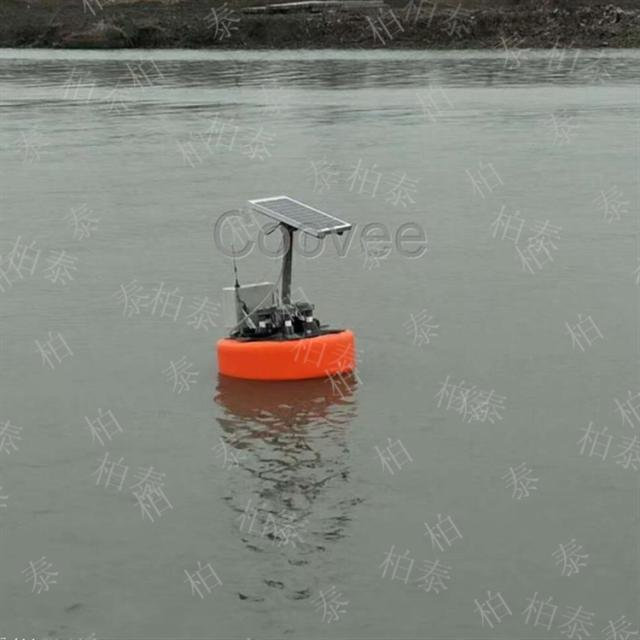buoy: (207, 188, 366, 390)
